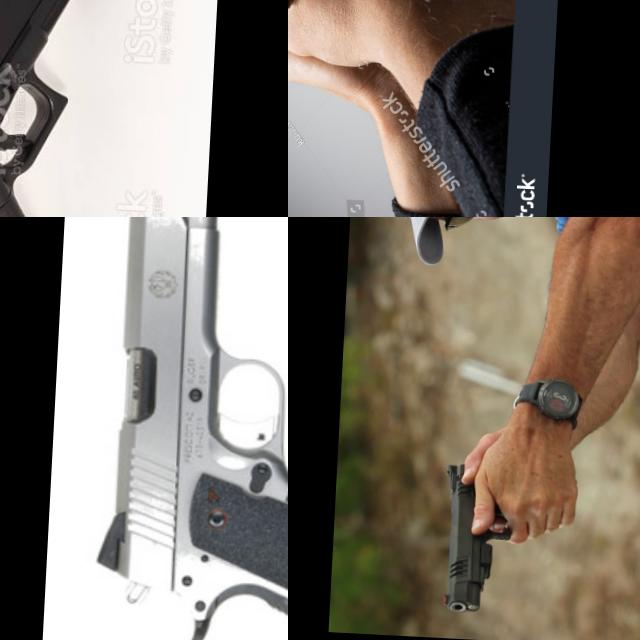handgun: (87, 217, 288, 640), (0, 0, 148, 217), (436, 457, 517, 617), (288, 0, 369, 98)
